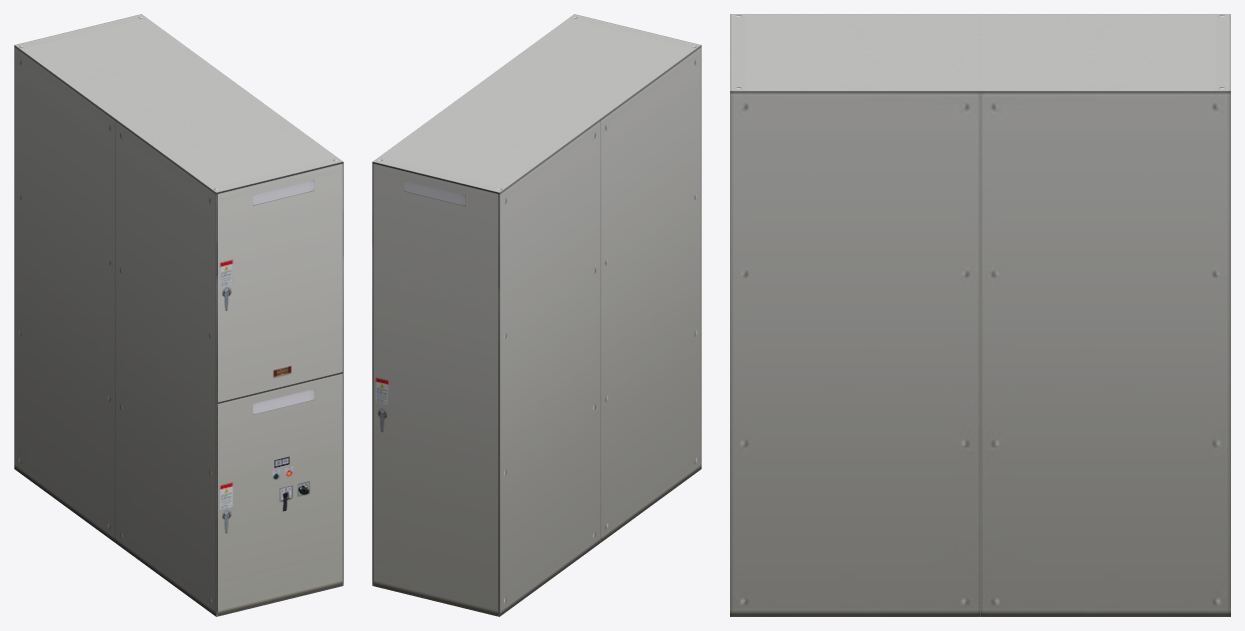
3 views of the same model, side by side, from view 1: azimuth 30°, elevation 25°; view 2: azimuth 150°, elevation 25°; view 3: azimuth 270°, elevation 25° (orthographic). The views are drawn at different scales.
Parts seen in each view (by area): view 1: HV-M7-U; view 2: HV-M7-U; view 3: HV-M7-U.
Boxes of the visible parts, x1,y1,x2,y2 form: HV-M7-U: (14,14,343,616); HV-M7-U: (372,14,701,616); HV-M7-U: (730,14,1230,616).
Size of the model in its own units: 0.8 by 2.55 by 2.2.
Materials: 1 (1 with a texture image).
